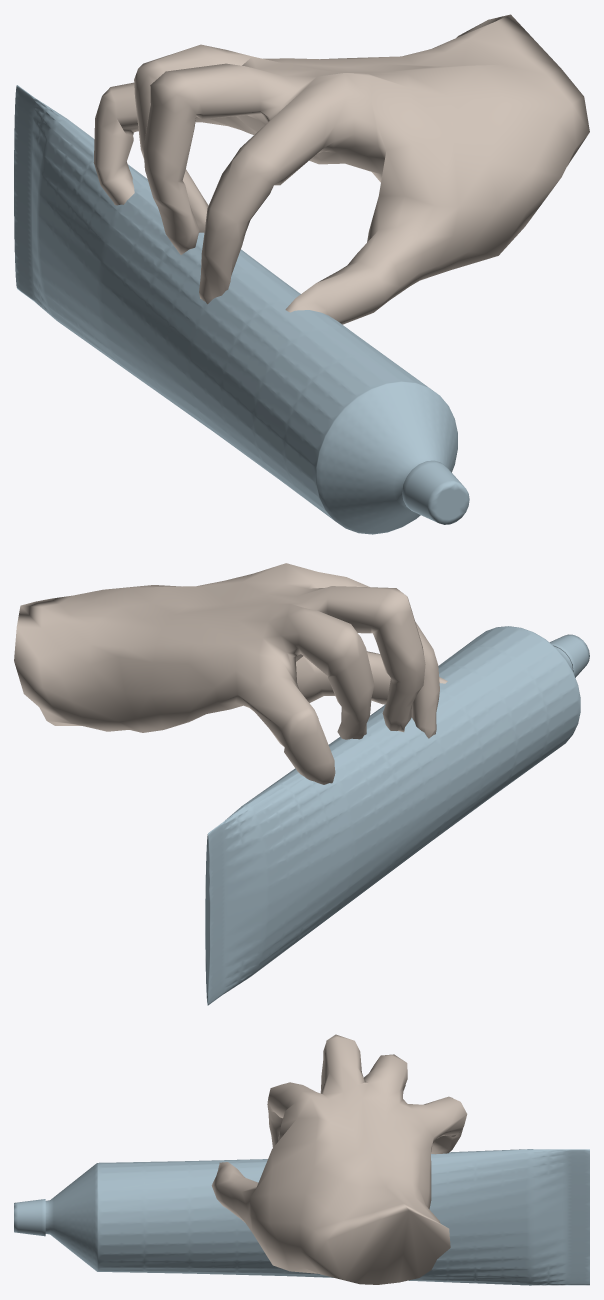
File: pred_28.glb
The picture shows the model from 3 angles, top to bottom: view 1: azimuth 30°, elevation 25°; view 2: azimuth 150°, elevation 25°; view 3: azimuth 270°, elevation 25°; orthographic projection. The views are drawn at different scales.
Bounding box in the file's own units: 0.1185 × 0.0926 × 0.202.
